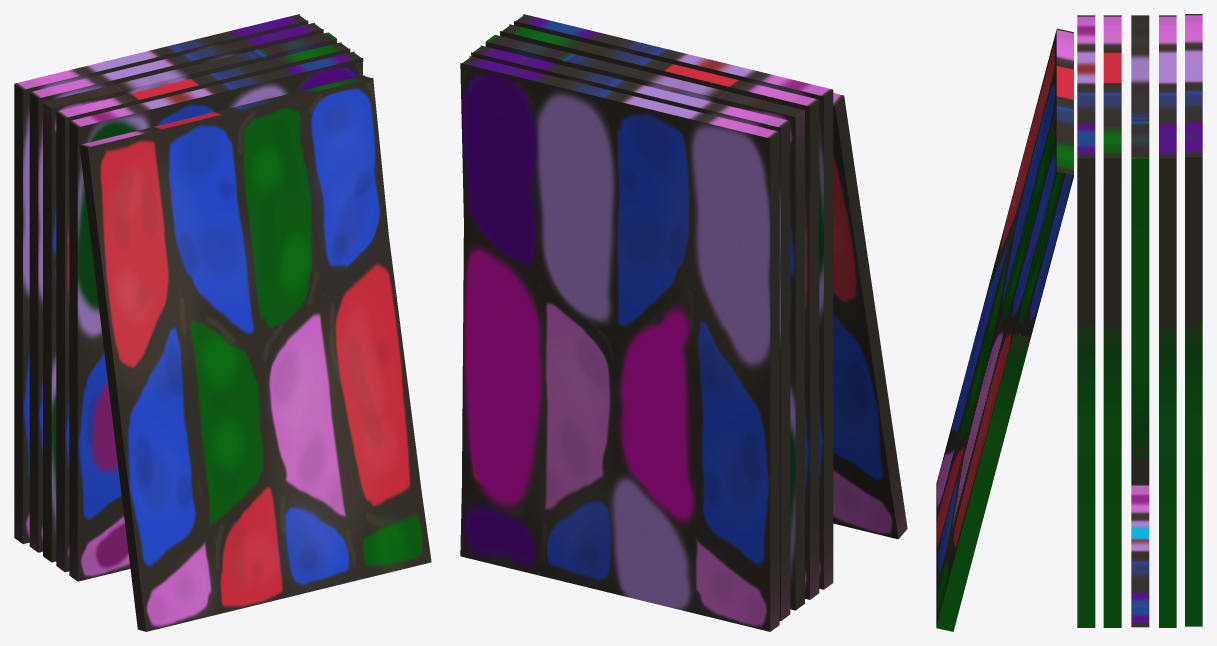
Rendered from yığın halinde vitray.fbx.
3 renders of one model, left to right at view 1: azimuth 30°, elevation 25°; view 2: azimuth 150°, elevation 25°; view 3: azimuth 270°, elevation 25°, orthographic. The views are drawn at different scales.
Parts seen in each view (by area): view 1: vitray6, vitray5, vitray1, vitray3, vitray2, vitray4; view 2: vitray1, vitray6, vitray3, vitray4, vitray5, vitray2; view 3: vitray6, vitray4, vitray5, vitray3, vitray1, vitray2.
Boxes of the visible parts, x1,y1,x2,y2 form: vitray6: (79, 75, 431, 631); vitray5: (69, 51, 363, 581); vitray1: (14, 14, 308, 543); vitray3: (43, 32, 336, 562); vitray2: (29, 22, 323, 552); vitray4: (56, 42, 350, 572); vitray1: (460, 56, 779, 631); vitray6: (833, 93, 907, 539); vitray3: (485, 35, 804, 610); vitray4: (500, 24, 819, 599); vitray5: (514, 14, 833, 589); vitray2: (471, 45, 790, 620); vitray6: (936, 28, 1073, 631); vitray4: (1103, 15, 1121, 627); vitray5: (1077, 15, 1095, 627); vitray3: (1131, 15, 1149, 627); vitray1: (1185, 14, 1202, 626); vitray2: (1159, 15, 1176, 627).
Size of the model in its own units: 133 by 202 by 103.
